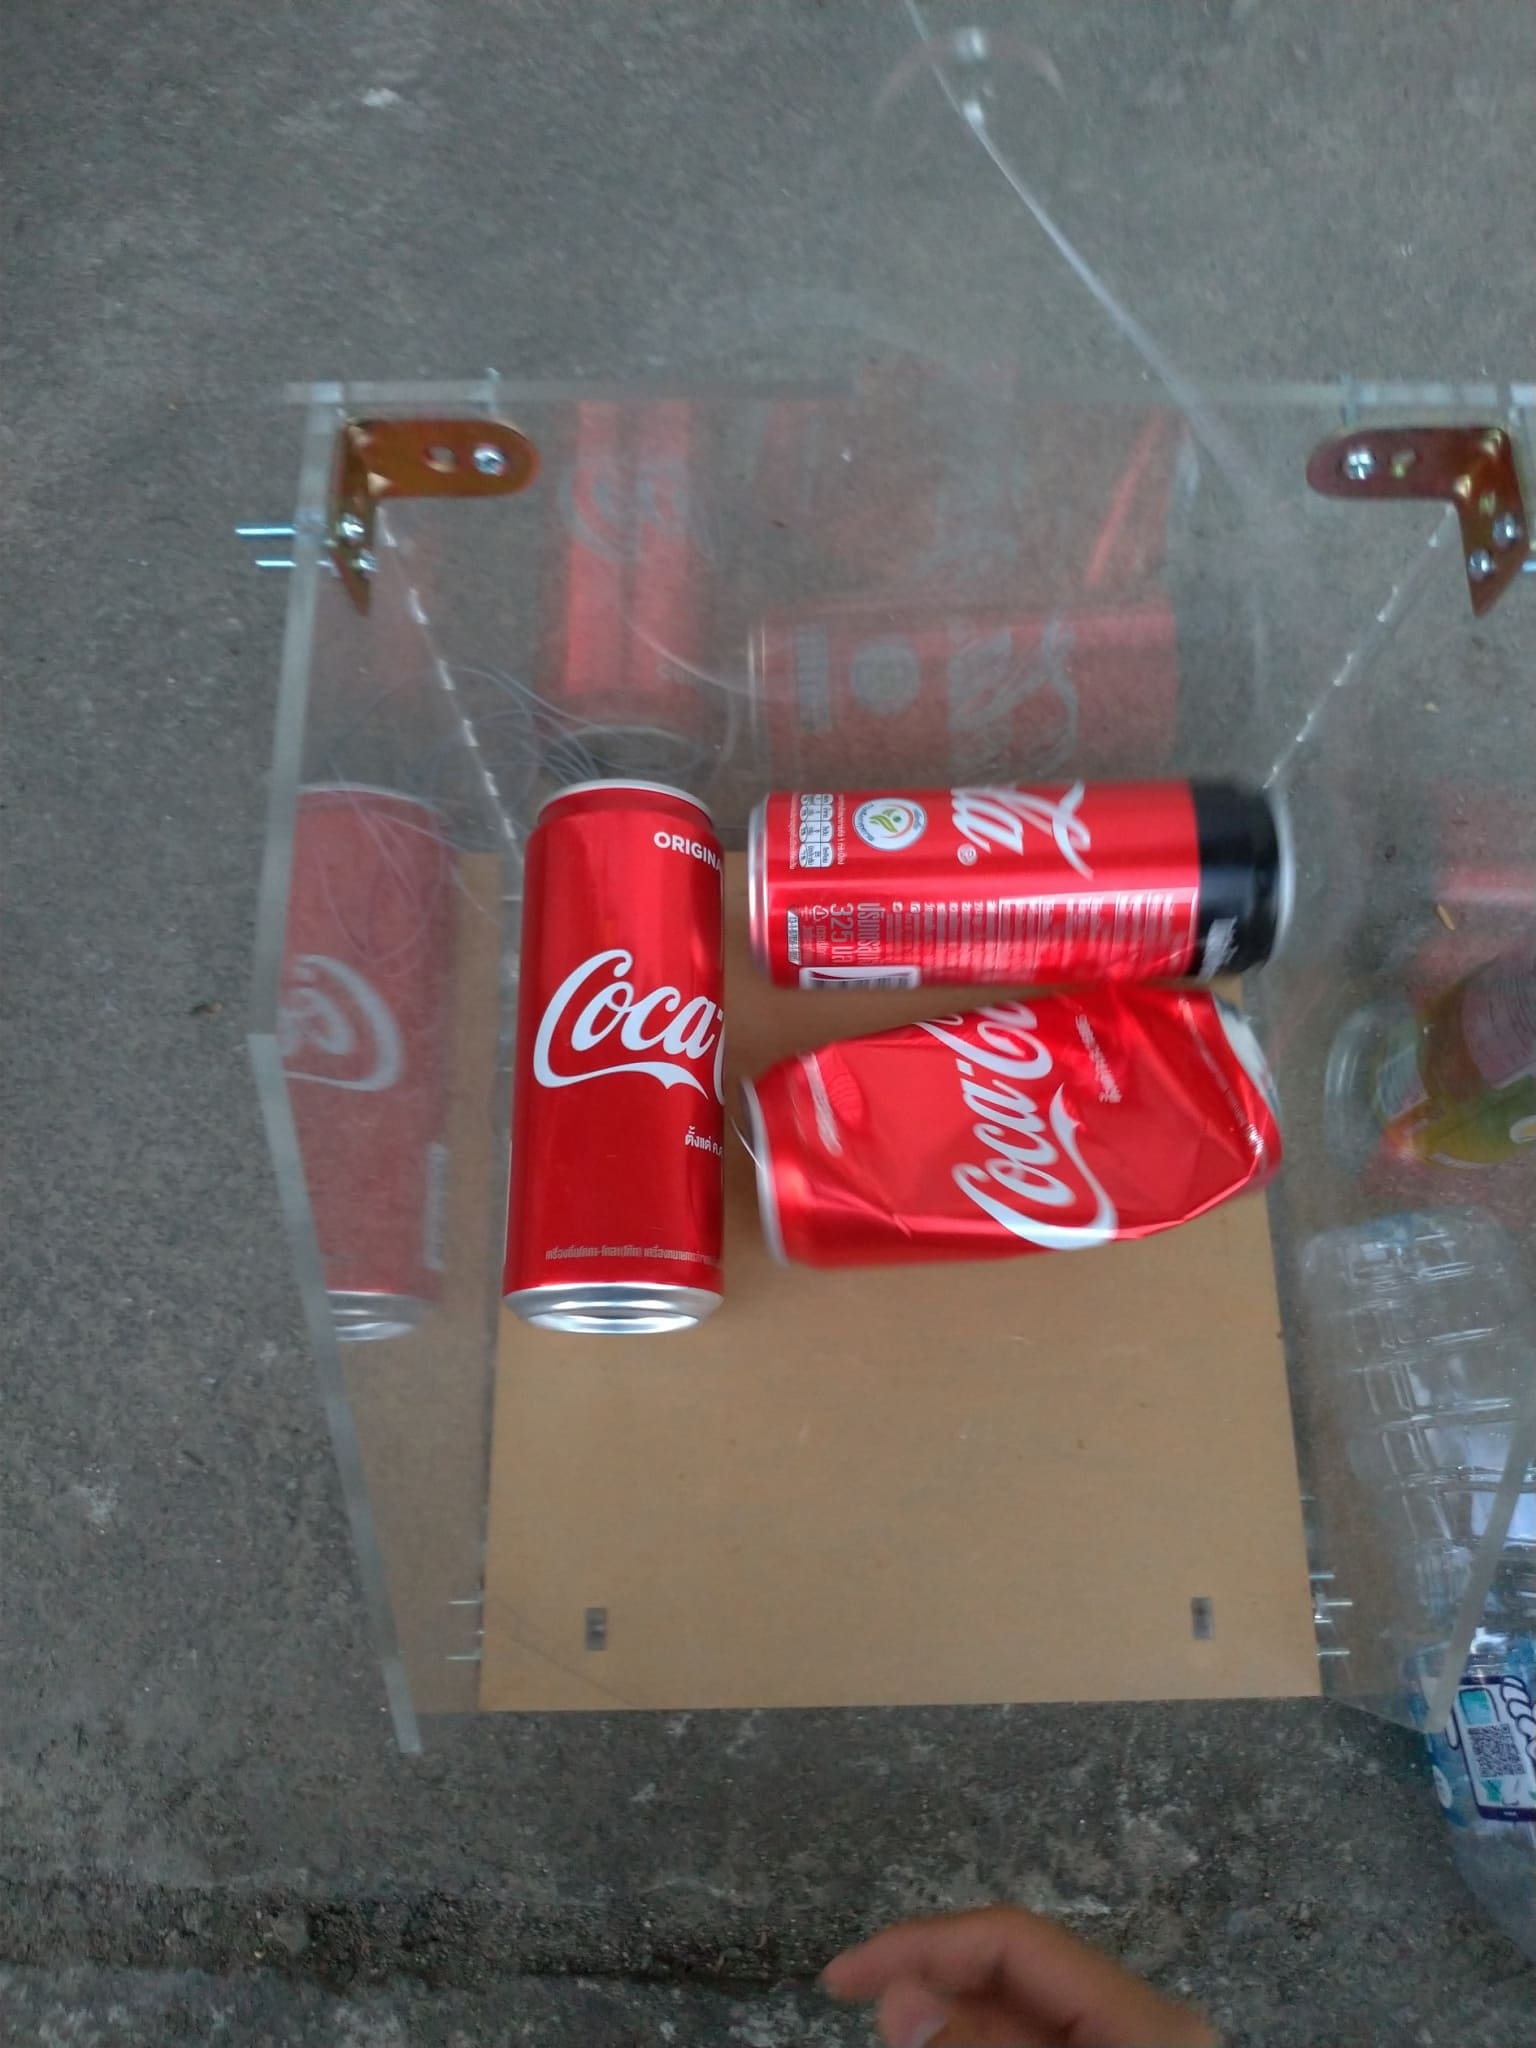AlCan: (745, 980, 1291, 1261), (507, 784, 728, 1342), (744, 780, 1297, 990), (1371, 926, 1536, 1168)
PlasticBottle: (1296, 1200, 1536, 1924)
